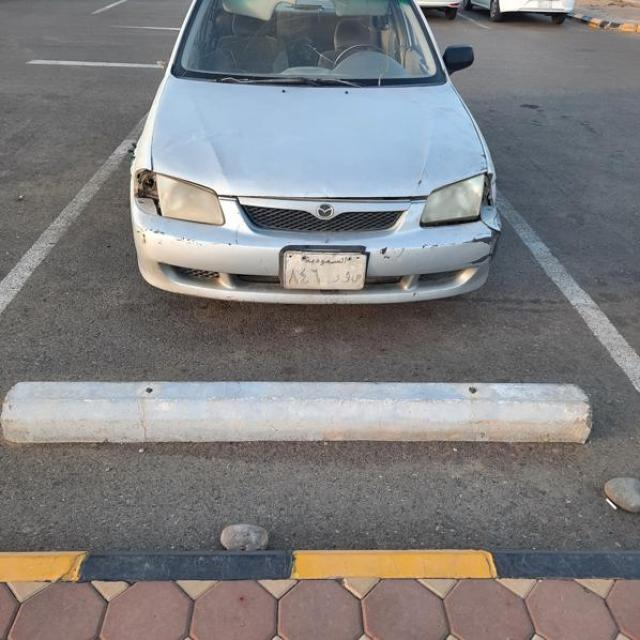license_plate: (284, 252, 366, 292)
